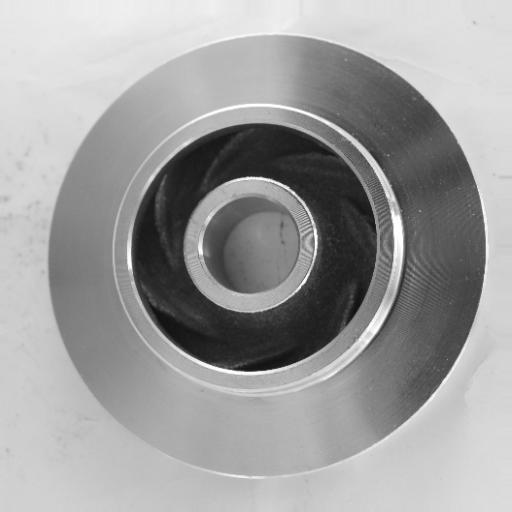polished_casting: (45, 29, 492, 479)
